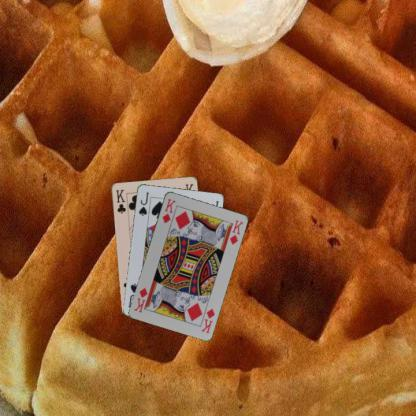Js: (136, 190, 150, 216)
Kc: (113, 187, 127, 214)
Kd: (159, 196, 177, 224), (199, 306, 216, 335)
